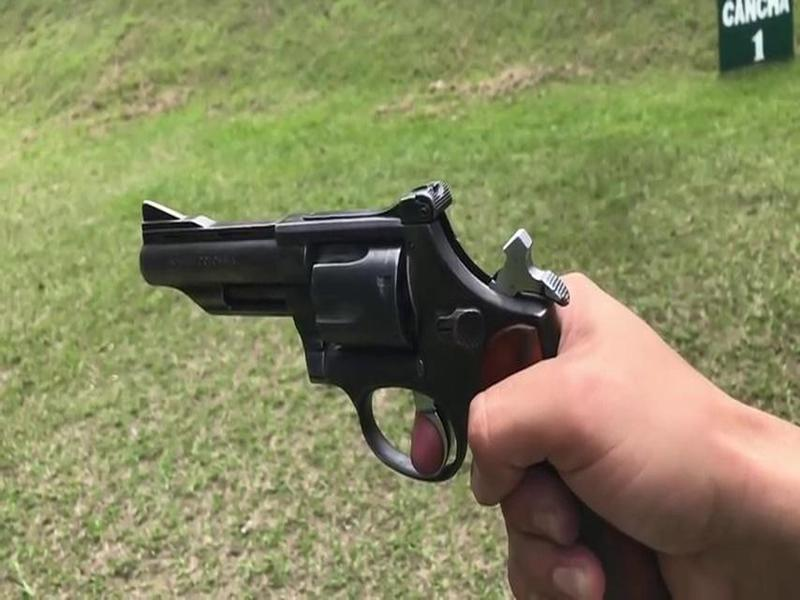Revolver: (147, 163, 594, 504)
